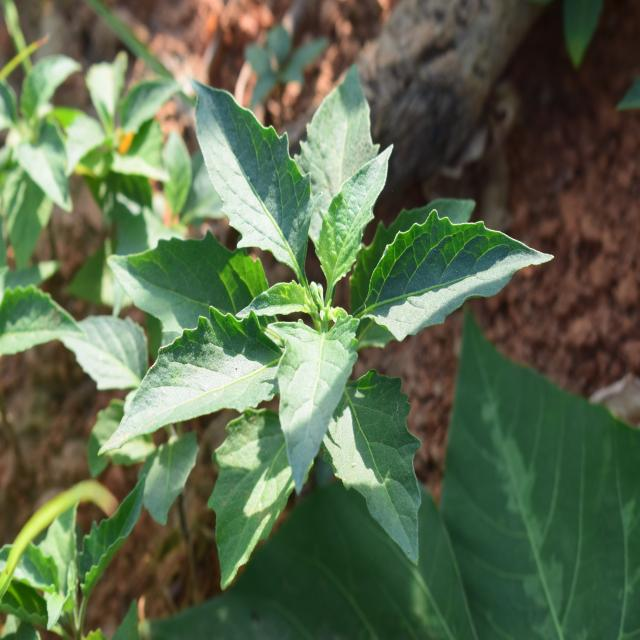Black_nightshade: (150, 84, 492, 517)
